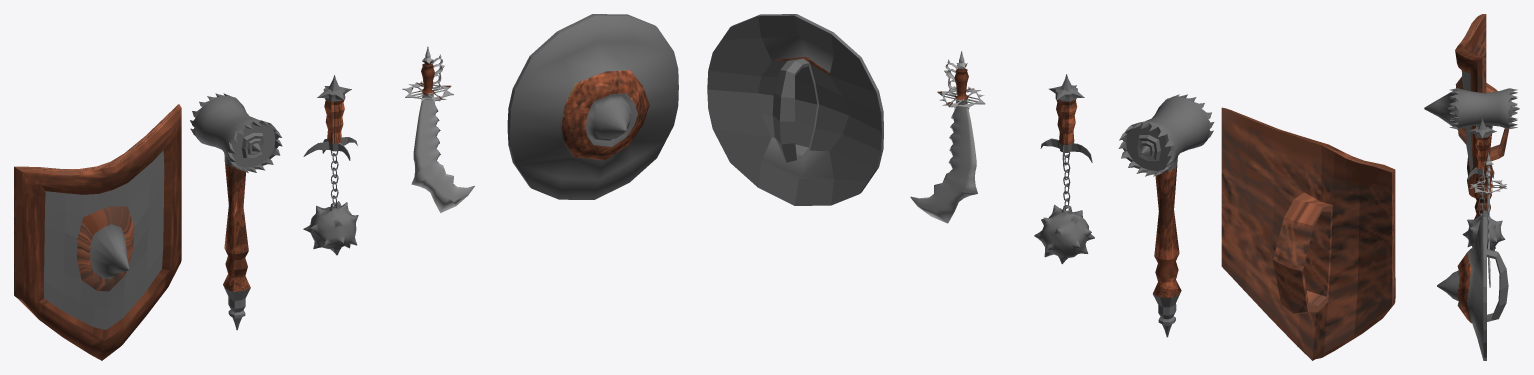
File: wall.glb
3 renders of one model, left to right at view 1: azimuth 30°, elevation 25°; view 2: azimuth 150°, elevation 25°; view 3: azimuth 270°, elevation 25°, orthographic. The views are drawn at different scales.
Visible parts, largest first — view 1: Cube.002_2, Cube.003_3, Cube.001_1, lowpoly_4, Cube_0; view 2: Cube.002_2, Cube.003_3, Cube.001_1, lowpoly_4, Cube_0; view 3: Cube.003_3, Cube.002_2, Cube.001_1, Cube_0, lowpoly_4.
Part boxes in pixels (x1,y1,x2,y2): Cube.002_2: [14, 104, 181, 360]; Cube.003_3: [507, 14, 678, 199]; Cube.001_1: [190, 93, 282, 330]; lowpoly_4: [402, 46, 474, 212]; Cube_0: [303, 75, 358, 255]; Cube.002_2: [1221, 107, 1395, 360]; Cube.003_3: [707, 14, 883, 205]; Cube.001_1: [1118, 94, 1214, 337]; lowpoly_4: [910, 51, 985, 223]; Cube_0: [1034, 74, 1094, 264]; Cube.003_3: [1437, 210, 1508, 360]; Cube.002_2: [1424, 14, 1509, 197]; Cube.001_1: [1447, 88, 1519, 219]; Cube_0: [1462, 118, 1505, 250]; lowpoly_4: [1470, 152, 1506, 287].
Bounding box in the file's own units: 54.76 × 18.78 × 9.11.
Materials: 3 (2 with a texture image).
